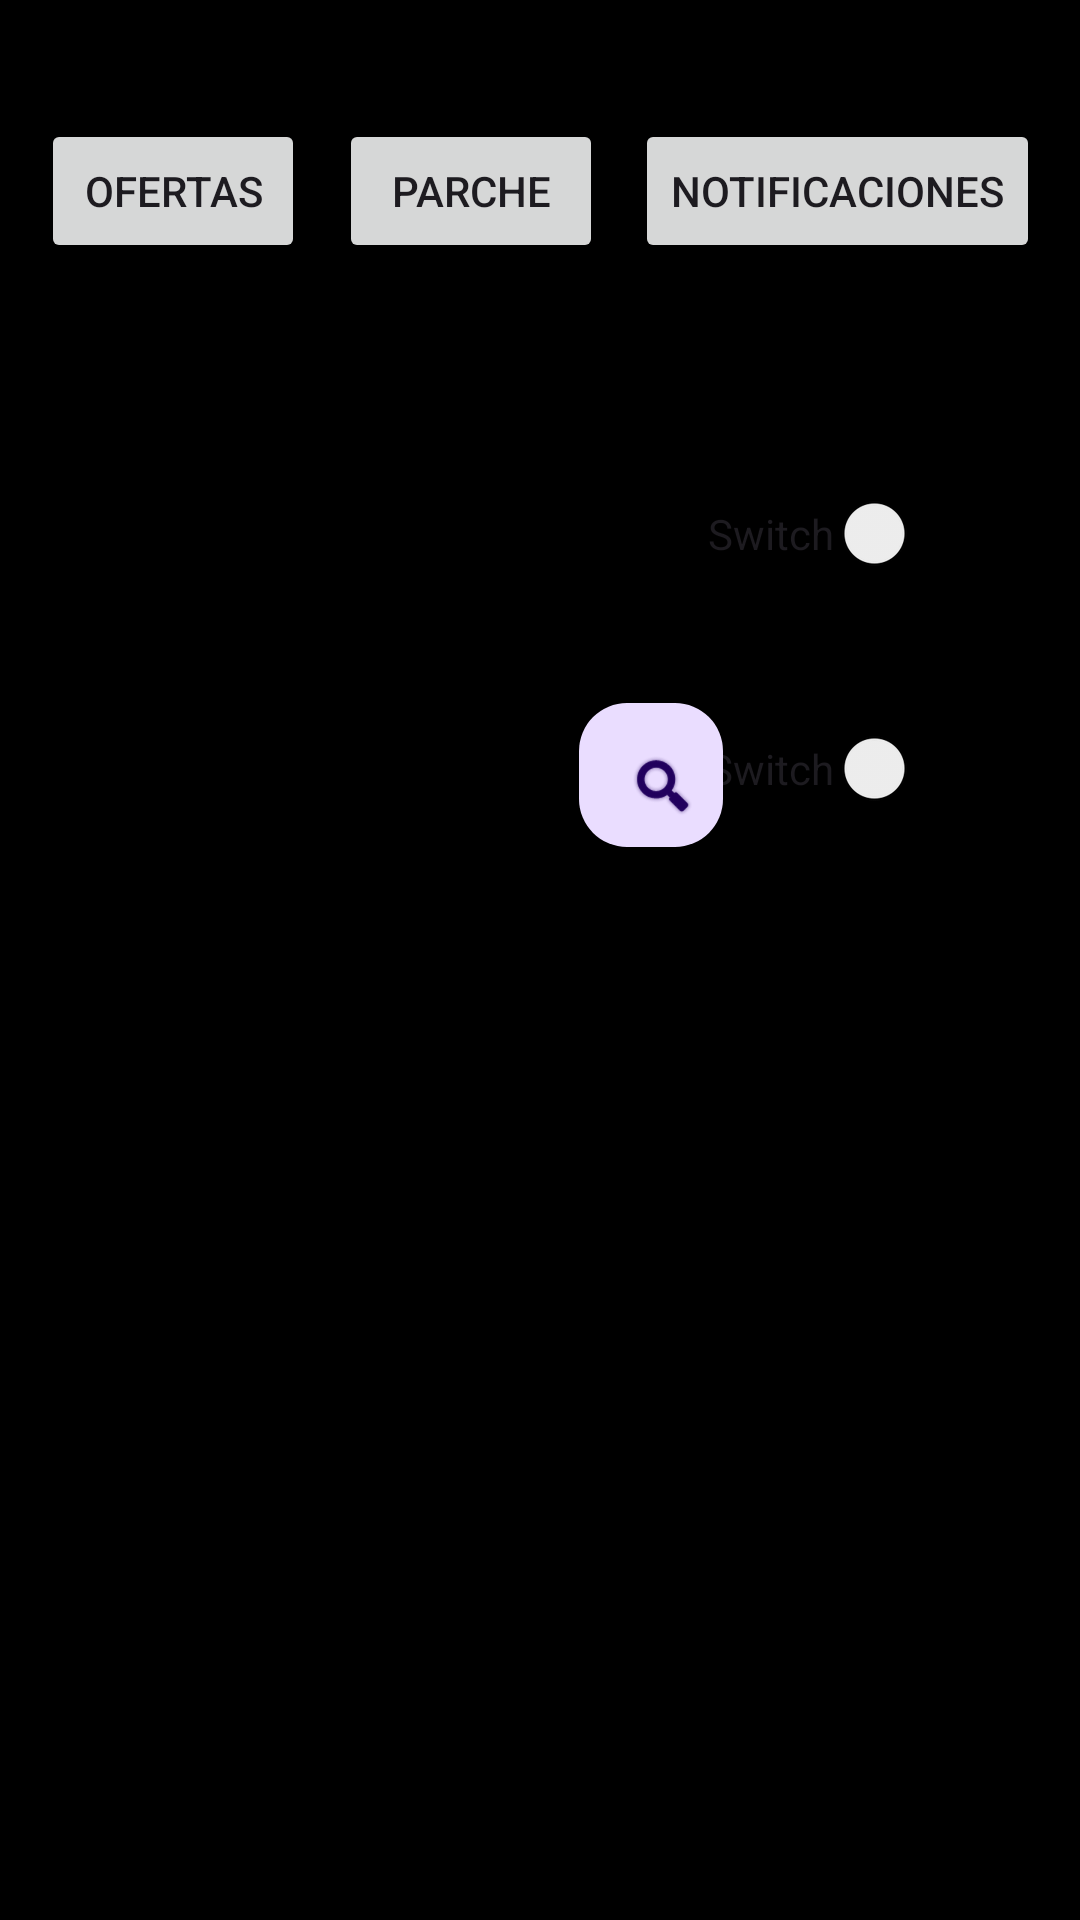

Where icons sit on this 1080 × 1920 app screen, as [x1=x1, y1=y1, x2=x2, y2=y2]:
search category: [x1=579, y1=703, x2=723, y2=847]
